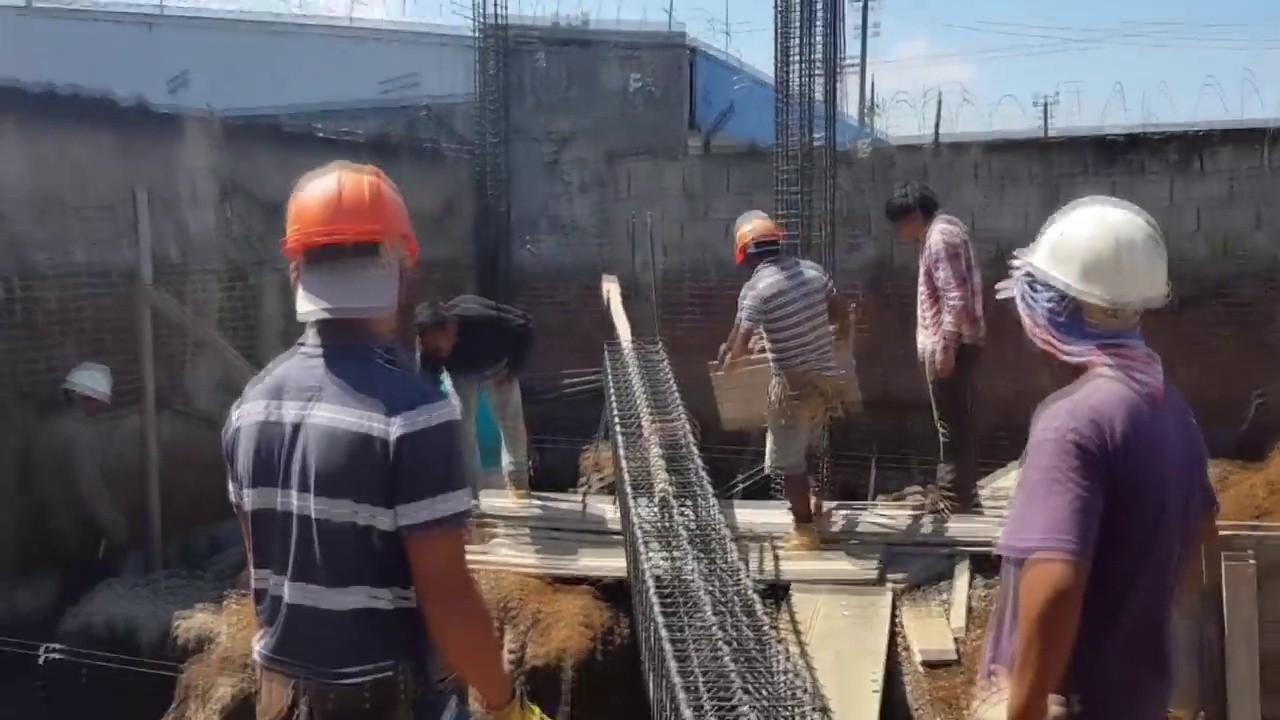helmet: (278, 154, 425, 283), (1026, 195, 1176, 318), (725, 209, 782, 260), (56, 366, 105, 407)
helmet-off: (883, 179, 942, 243), (409, 303, 466, 366)
helmet-on: (1013, 194, 1178, 388), (280, 154, 425, 371), (45, 365, 114, 430), (724, 208, 789, 271)
person: (215, 155, 516, 720), (970, 184, 1211, 720), (724, 214, 848, 544), (880, 179, 998, 517), (414, 294, 539, 503), (30, 361, 132, 581)
